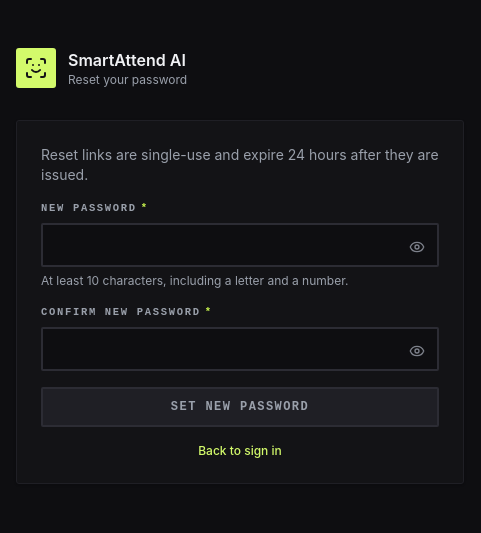
Scenario: reset password page › validates confirmation and surfaces an expired token error
In the password field labelled "New password*": (240, 245) top-left (41, 223), bottom-right (439, 267), type "NewPassw0rd!2345"
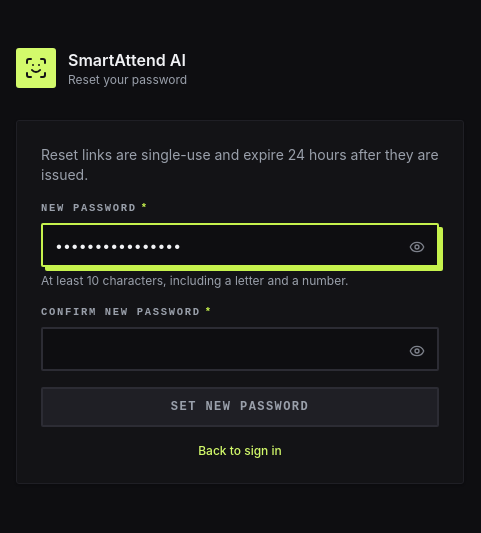
In the password field labelled "Confirm new password*": (240, 349) top-left (41, 327), bottom-right (439, 371), type "MismatchPassw0rd!2"
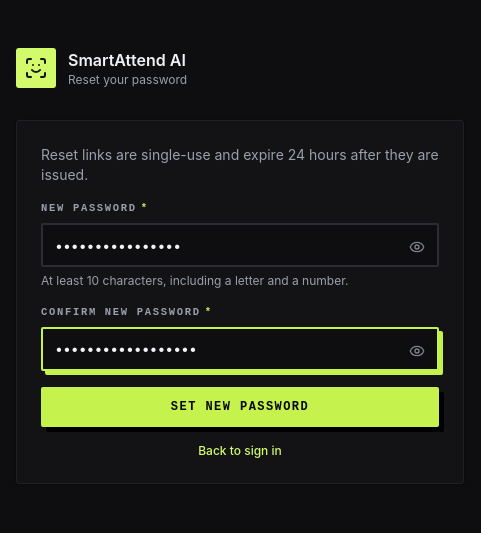
Click the button "Set new password": click(240, 407) top-left (41, 387), bottom-right (439, 427)
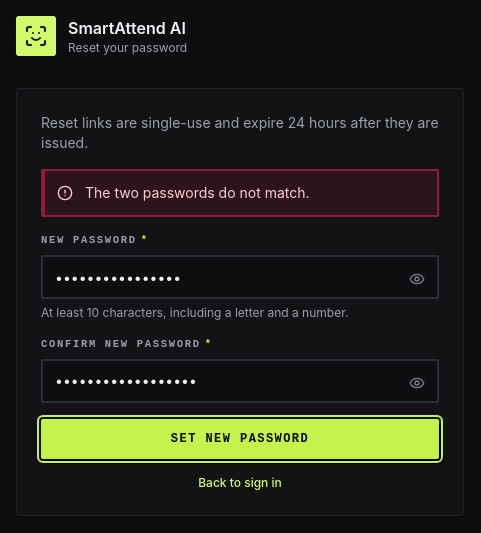
Now the text "The two passwords do not match." is shown, box top-left (85, 183), bottom-right (310, 203)
In the password field labelled "Confirm new password*": (240, 381) top-left (41, 359), bottom-right (439, 403), type "NewPassw0rd!2345"
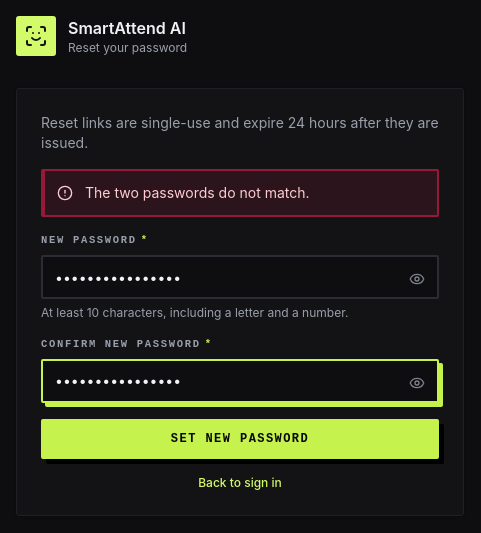
Click the button "Set new password": click(240, 439) top-left (41, 419), bottom-right (439, 459)
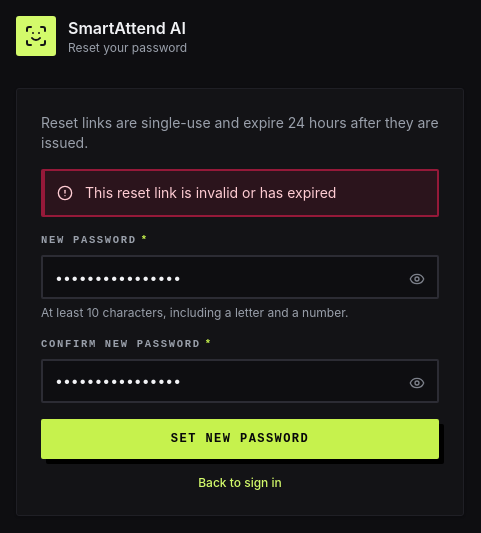
Now the message reads "This reset link is invalid or has expired", box top-left (85, 184), bottom-right (336, 201)
